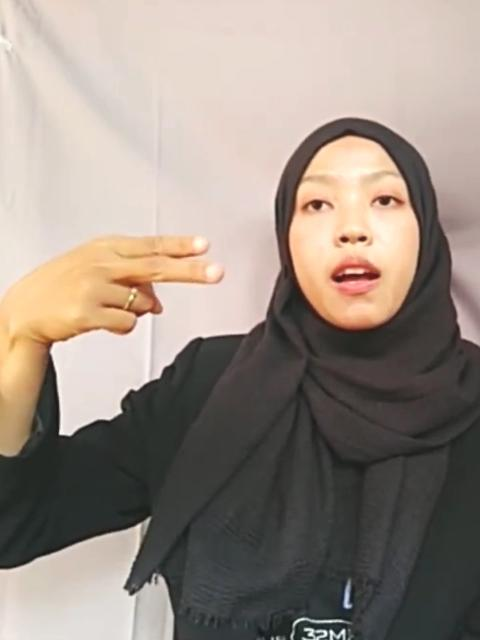H: (0, 230, 228, 348)
